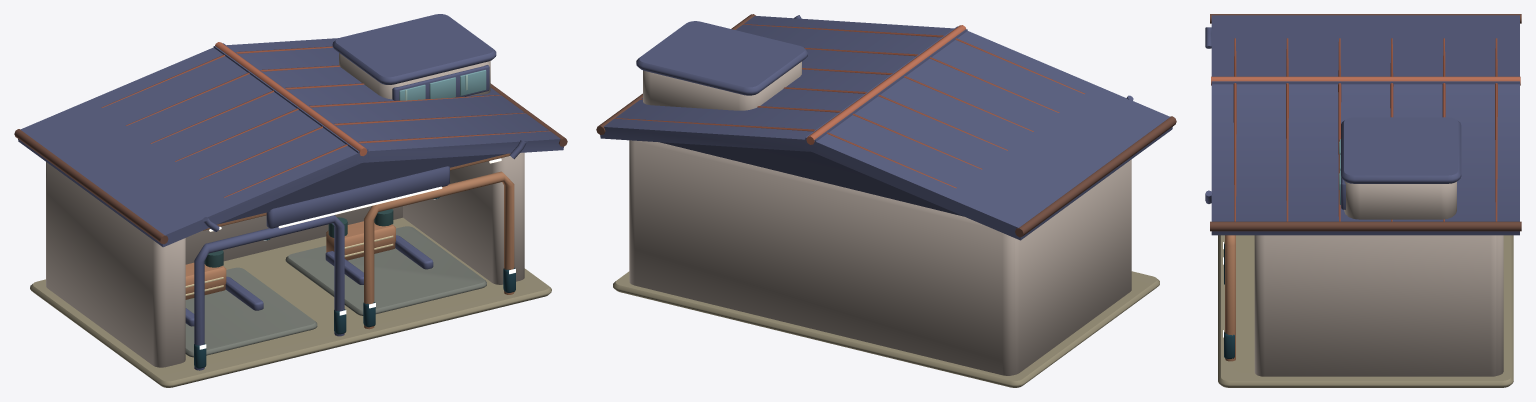
The model's file is japan_tuning.glb.
3 views of the same model, side by side, from view 1: azimuth 30°, elevation 25°; view 2: azimuth 150°, elevation 25°; view 3: azimuth 270°, elevation 25° (orthographic). The views are drawn at different scales.
Parts seen in each view (by area): view 1: JapanTuning; view 2: JapanTuning; view 3: JapanTuning.
Part boxes in pixels (x1=…): JapanTuning: x1=14, y1=14, x2=567, y2=387; JapanTuning: x1=596, y1=14, x2=1176, y2=387; JapanTuning: x1=1205, y1=14, x2=1521, y2=387.
Size of the model in its own units: 10.39 by 4.89 by 6.55.
